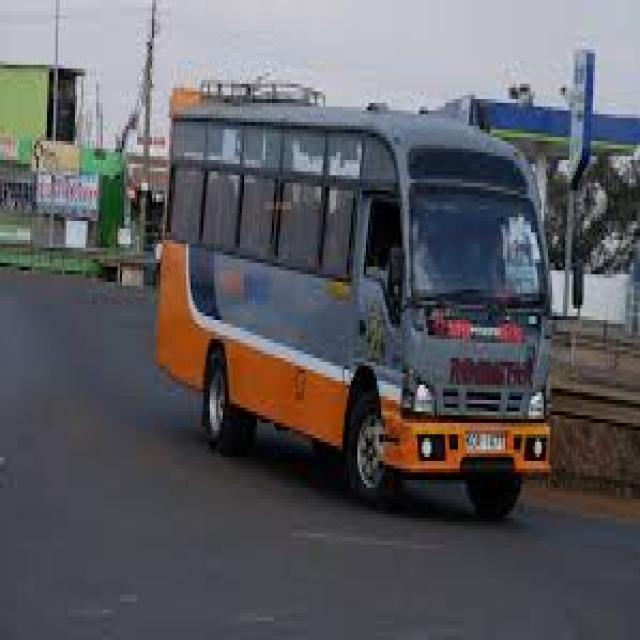bus: (146, 17, 567, 551)
